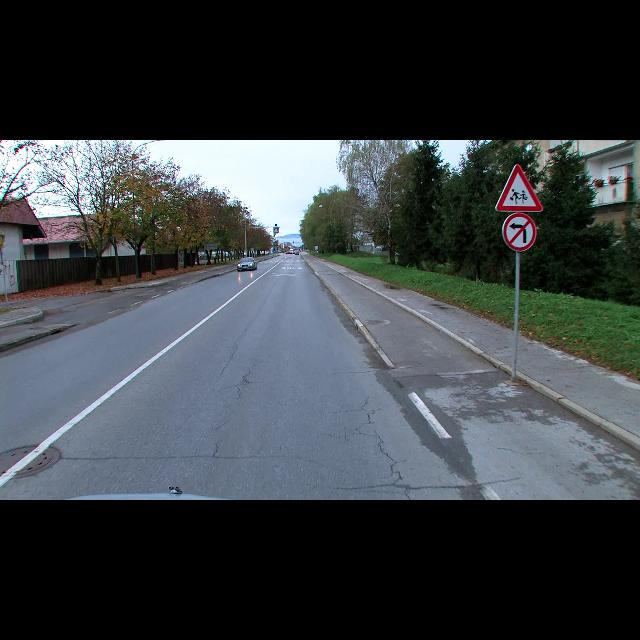Round: (503, 214, 537, 250)
Squared: (274, 226, 280, 234)
Triangle: (496, 164, 542, 212)
